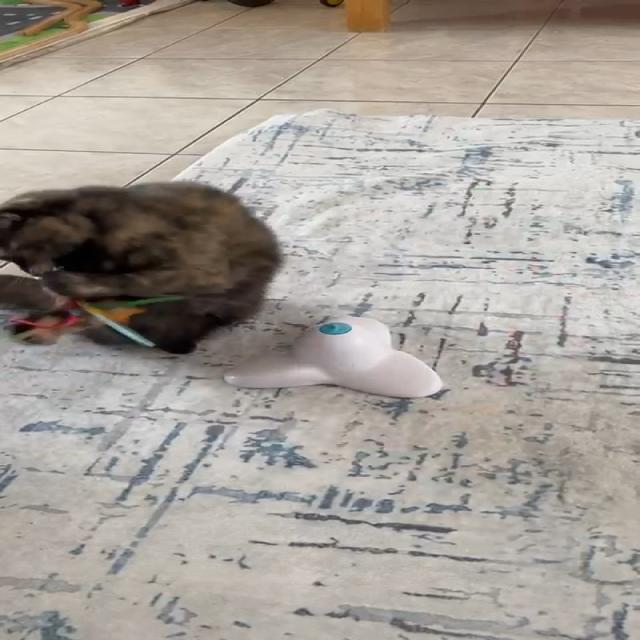authorized: (0, 180, 284, 354)
